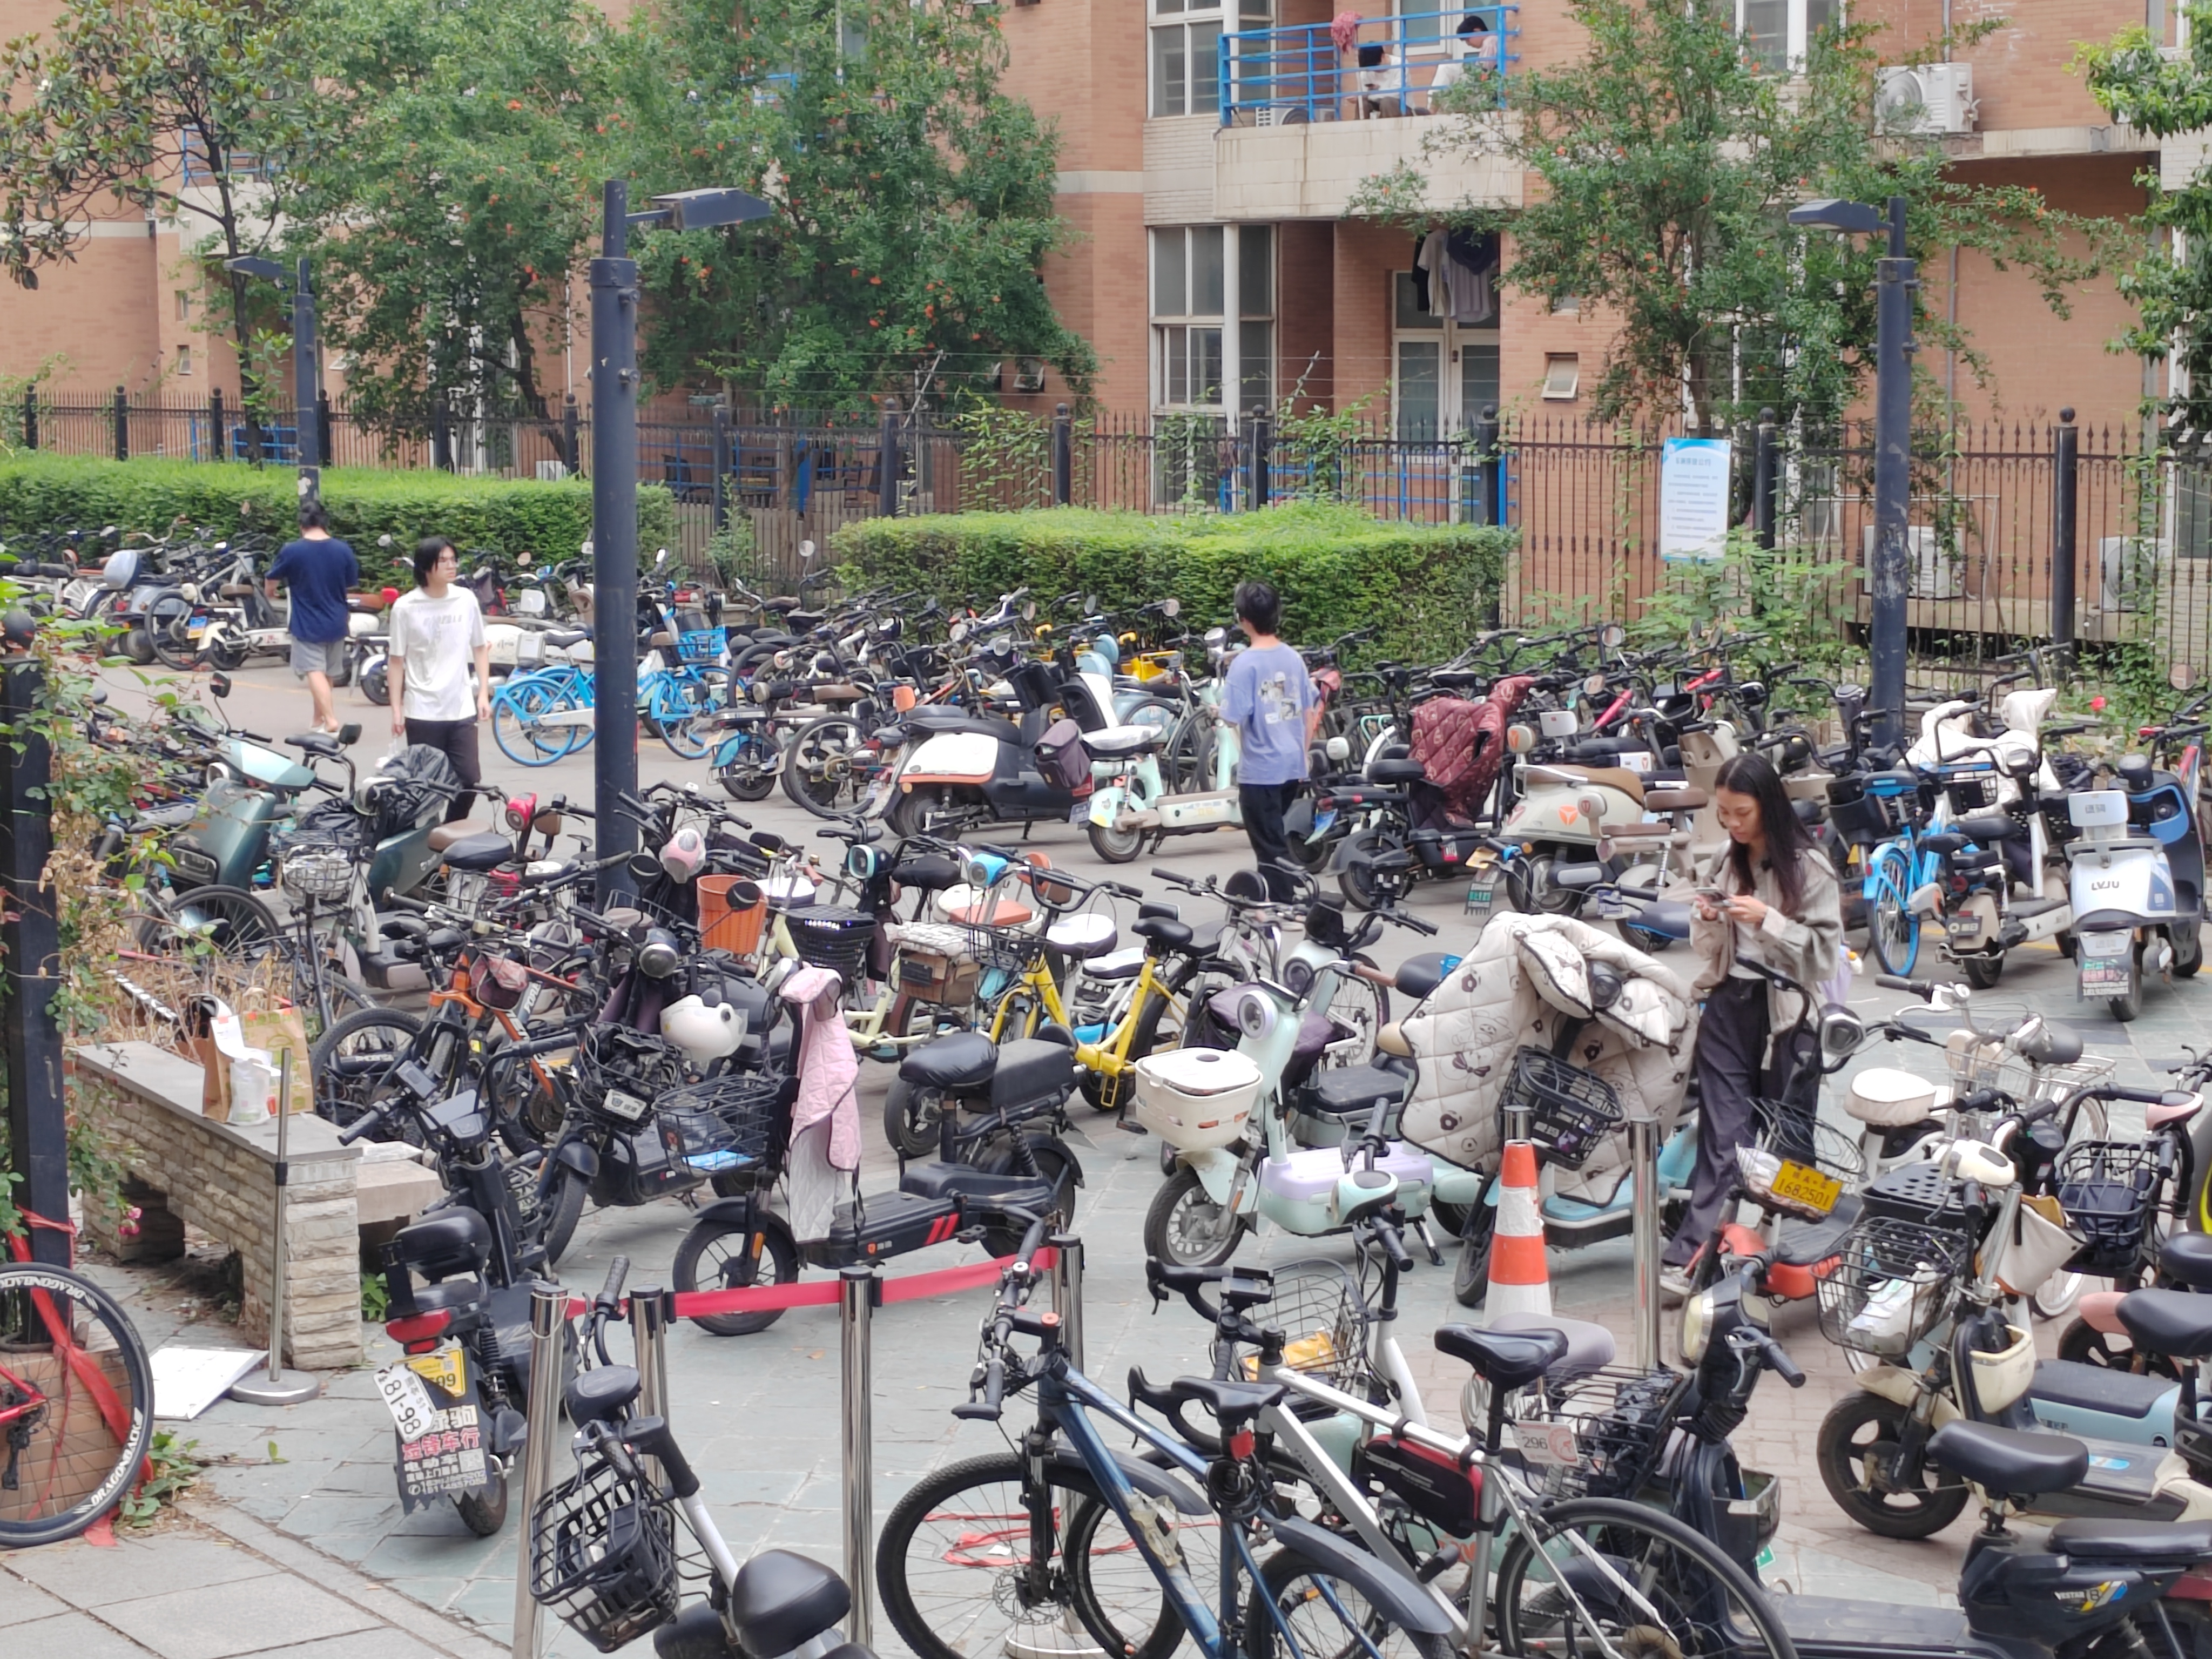others: (909, 1232, 1454, 1659), (683, 953, 1078, 1330), (1479, 913, 1827, 1255), (320, 924, 613, 1248), (1857, 953, 2107, 1319), (1155, 906, 1413, 1258), (314, 769, 596, 993), (160, 714, 401, 958), (1364, 615, 1573, 892), (1555, 652, 1754, 892), (1047, 643, 1256, 861), (449, 824, 698, 1006), (754, 608, 942, 816), (871, 633, 1055, 838), (120, 504, 206, 673)
shared_bike_haluo: (1864, 692, 2000, 979), (521, 577, 723, 763), (529, 580, 758, 734)
